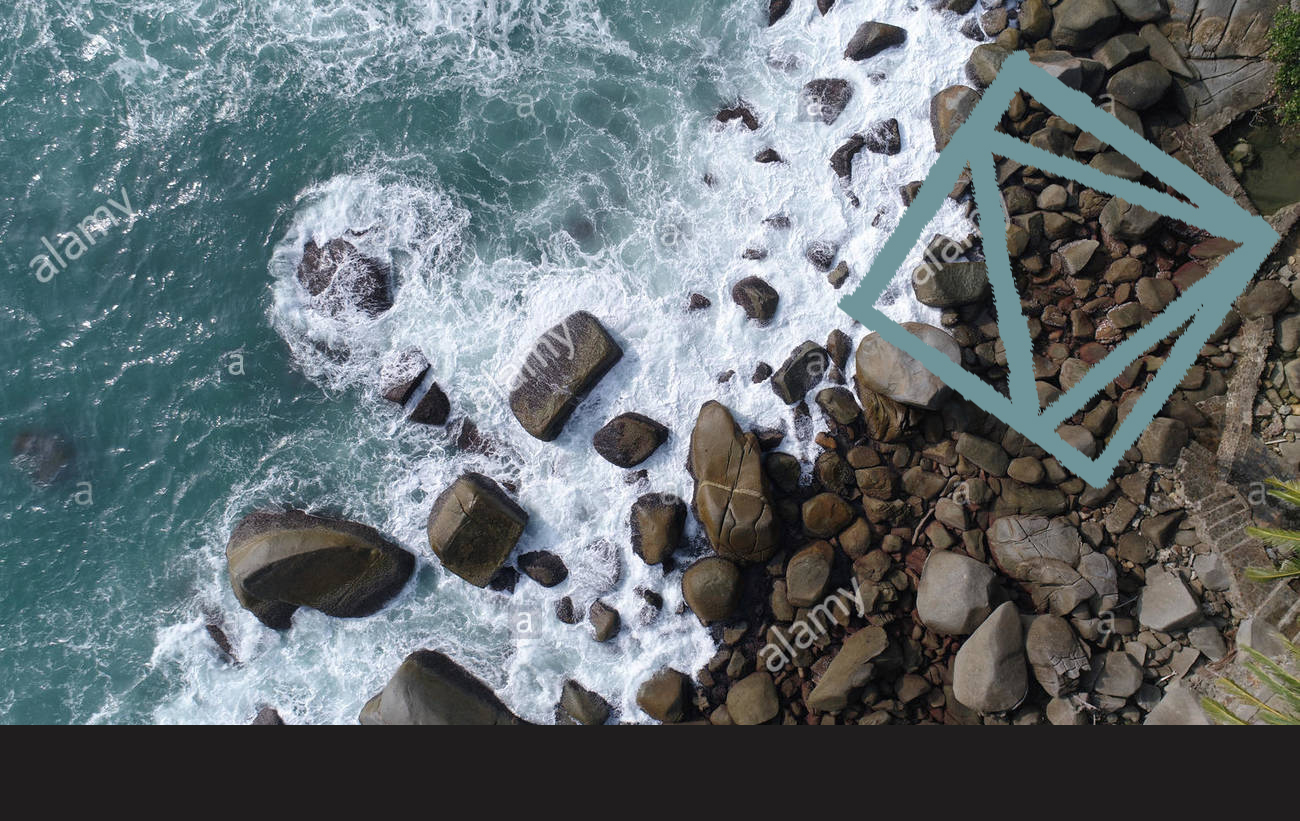marker: (834, 43, 1289, 489)
